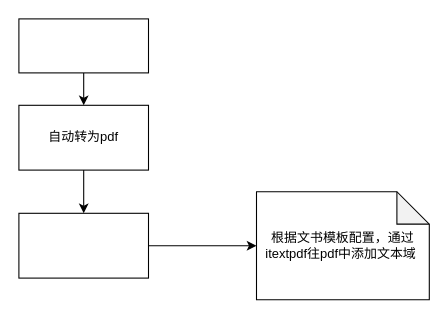
This 448x319 diagram has some shape labels left out. The centre of each missing label's shape, as x and y in pixels:
"保存文书(点聚)" goes at pixel 83 45.
"设置PDF文本域" goes at pixel 83 245.
